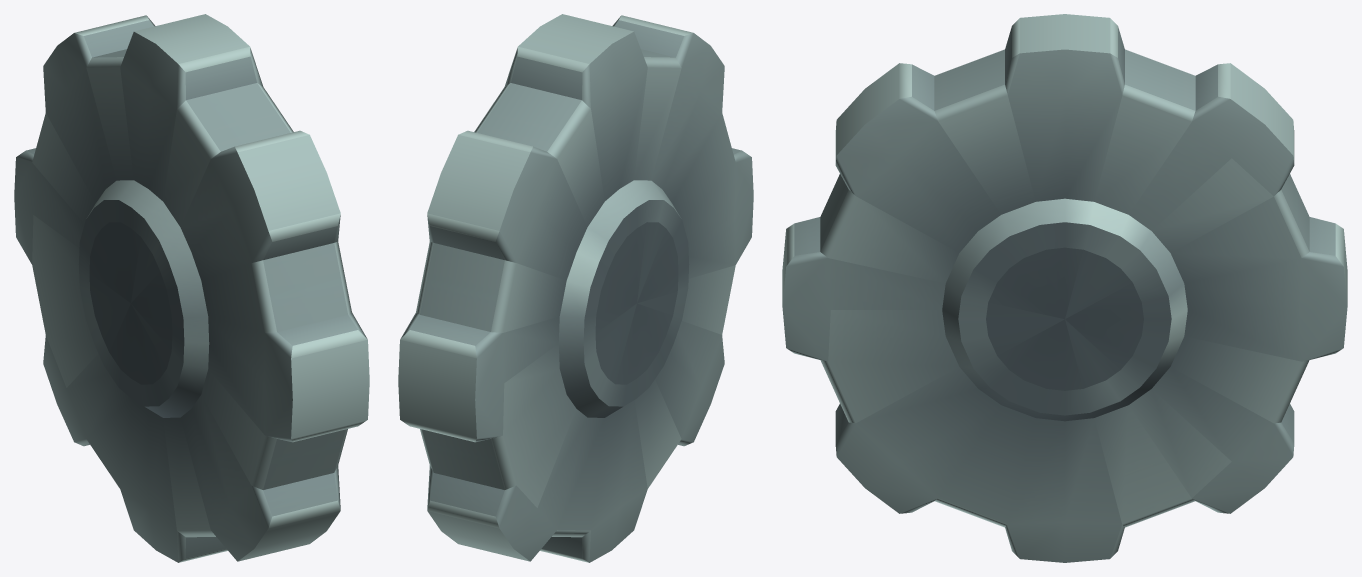
Rendered from cog_big.fbx.
3 views of the same model, side by side, from view 1: azimuth 30°, elevation 25°; view 2: azimuth 150°, elevation 25°; view 3: azimuth 270°, elevation 25° (orthographic).
Parts seen in each view (by area): view 1: cog_big; view 2: cog_big; view 3: cog_big.
Boxes of the visible parts, x1,y1,x2,y2 form: cog_big: (14,14,369,562); cog_big: (398,14,753,562); cog_big: (782,14,1347,562).
Bounding box in the file's own units: 106 × 416 × 415.
